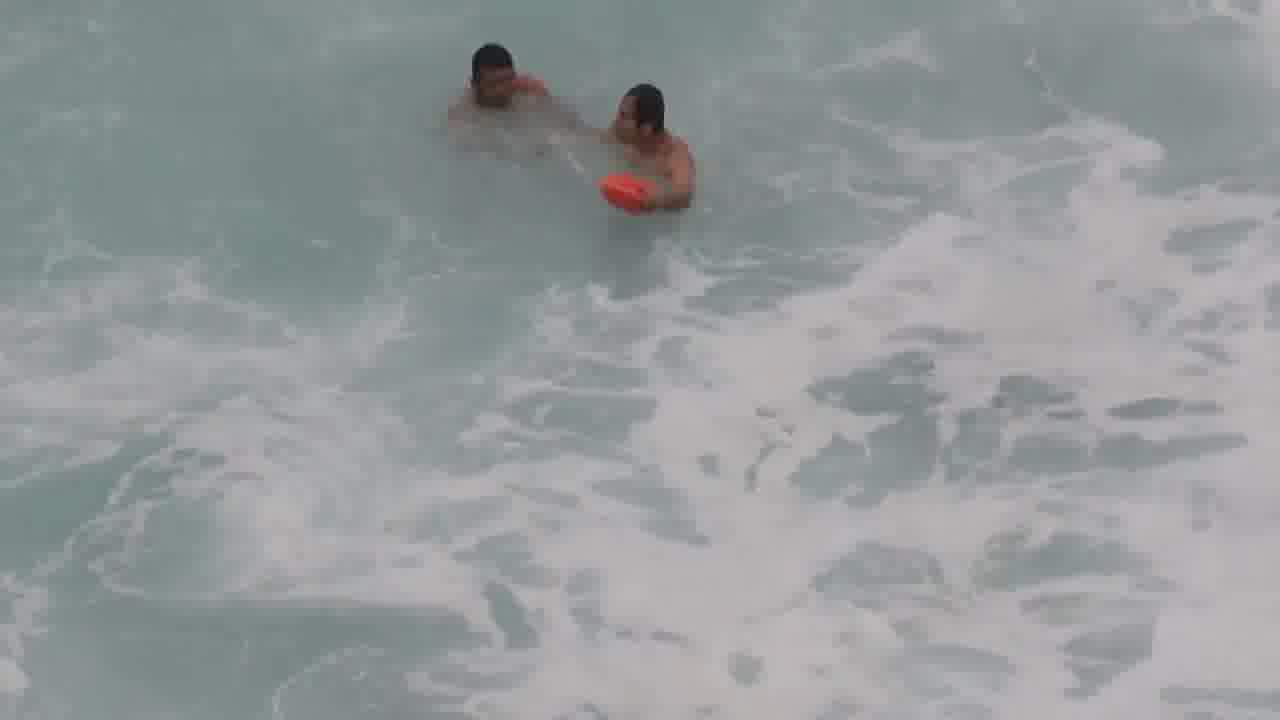human: (591, 77, 715, 217), (434, 36, 564, 143)
